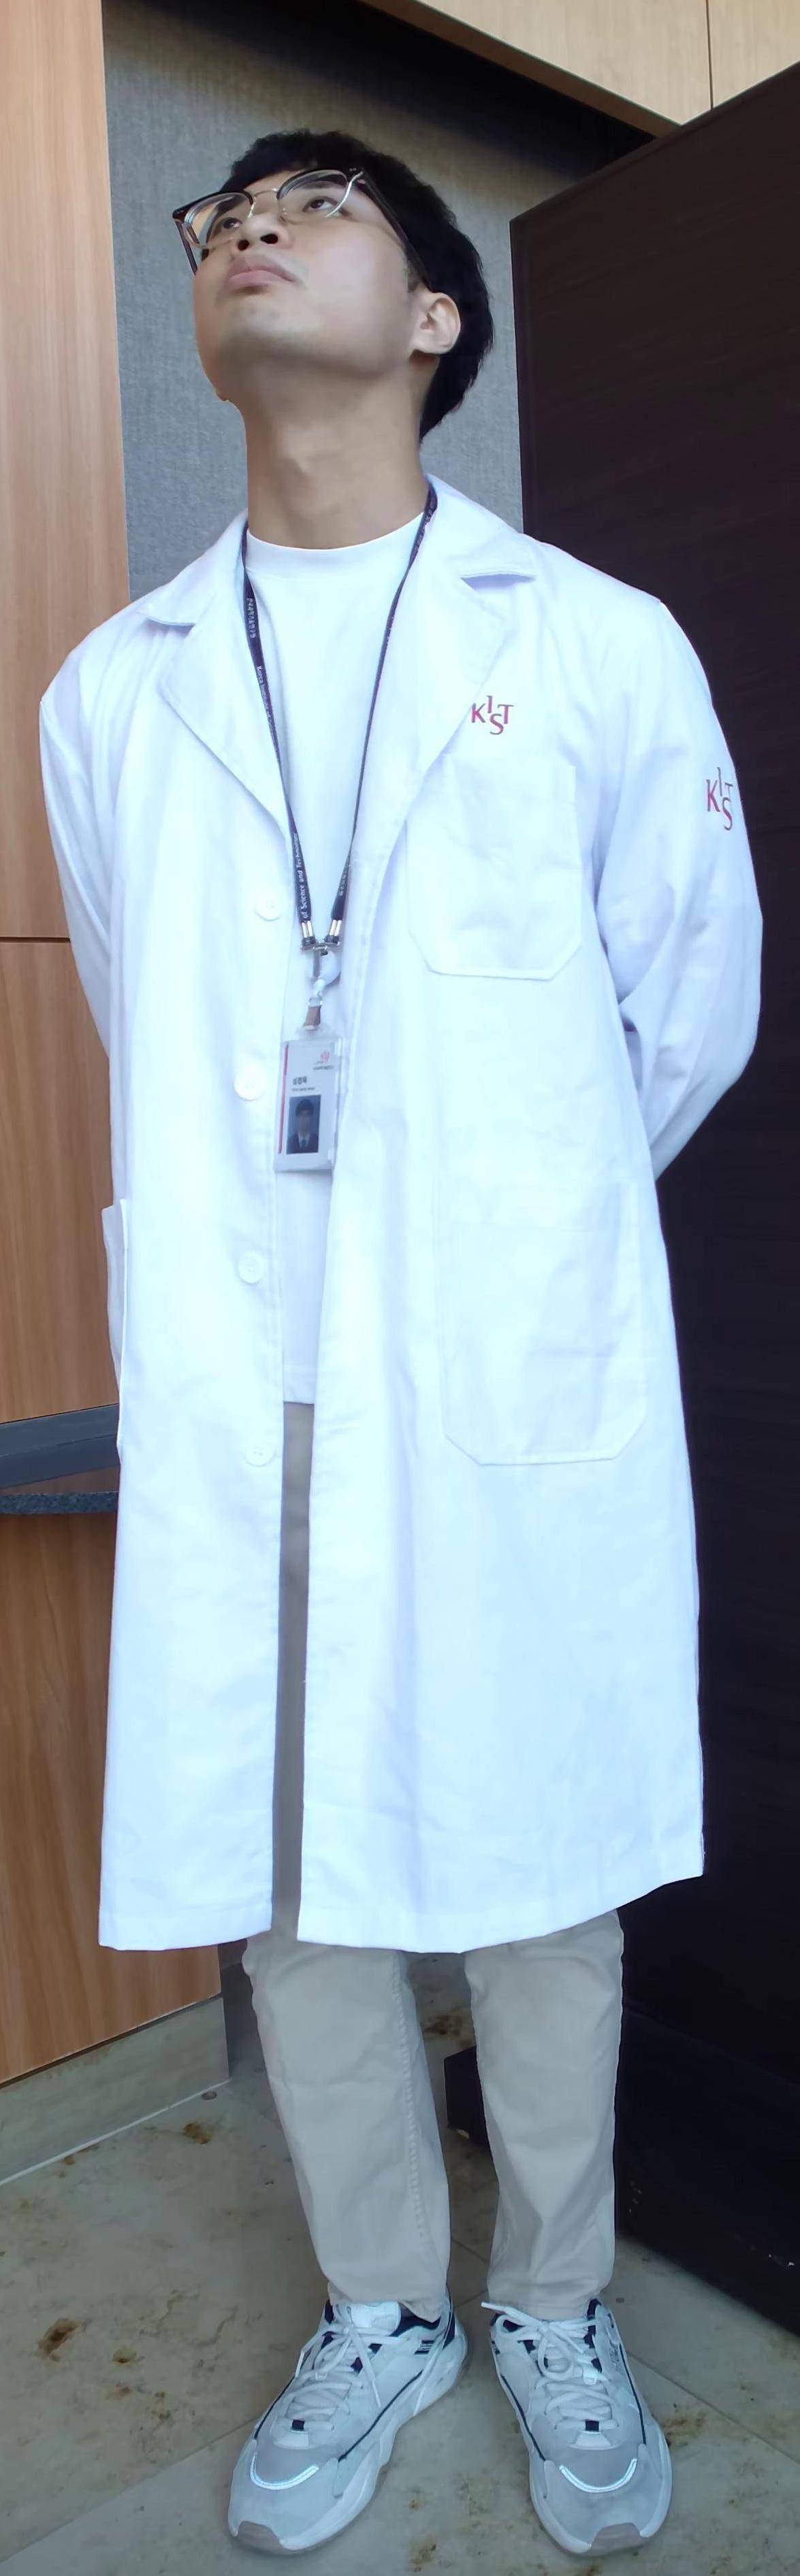lab_coat: (36, 580, 764, 1904)
